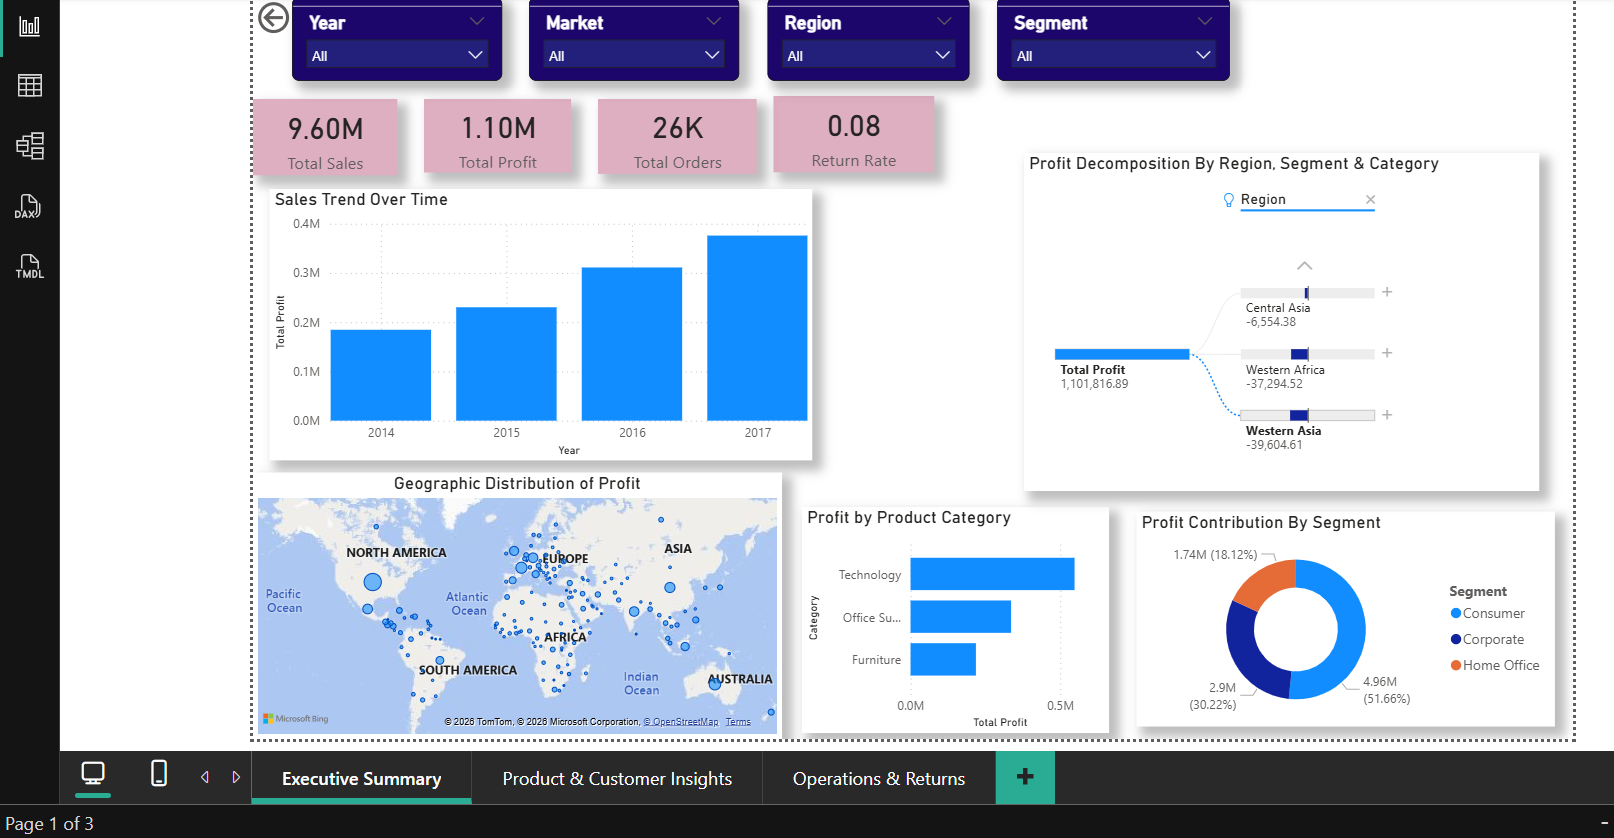

Layout of this report page (visuals, bound fields, positions):
{"tool":"powerbi","page":{"name":"Executive Summary","canvas":[1280,720],"ordinal":0},"visuals":[{"type":"card","fields":{"Values":["_Measures.Total Sales"]},"box":[0,98.6,140,74.3],"z":0},{"type":"card","fields":{"Values":["_Measures.Return Rate"]},"box":[505.7,95.7,155.7,74.3],"z":1000},{"type":"card","fields":{"Values":["_Measures.Total Profit"]},"box":[165.7,98.6,142.9,71.4],"z":2000},{"type":"card","fields":{"Values":["_Measures.Total Profit"]},"box":[334.3,98.6,154.3,72.9],"z":3000},{"type":"lineClusteredColumnComboChart","title":"Sales Trend Over Time","fields":{"Category":["Dim_Date.Order Date.Variation.Date Hierarchy.Year","Dim_Date.Order Date.Variation.Date Hierarchy.Quarter","Dim_Date.Order Date.Variation.Date Hierarchy.Month","Dim_Date.Order Date.Variation.Date Hierarchy.Day"],"Y":["_Measures.Total Profit"]},"box":[16.7,186.2,526.9,263.5],"z":4000},{"type":"actionButton","box":[0,0,100,40],"z":5000},{"type":"map","title":"Geographic Distribution of Profit","fields":{"Category":["Dim_Geography.Country"],"Size":["_Measures.Total Sales"]},"box":[0,461.7,513.3,258.3],"z":6000},{"type":"clusteredBarChart","title":"Profit by Product Category","fields":{"Category":["Dim_Product.Category"],"Y":["_Measures.Total Profit"]},"box":[533,495.1,298.3,219.6],"z":7000},{"type":"donutChart","title":"Profit Contribution By Segment","fields":{"Category":["Dim_Customer.Segment"],"Y":["_Measures.Total Sales"]},"box":[857,499.7,405.8,209],"z":8000},{"type":"decompositionTreeVisual","title":"Profit Decomposition By Region, Segment & Category","fields":{"ExplainBy":["Dim_Geography.Region","Dim_Customer.Segment","Dim_Product.Category"],"Analyze":["_Measures.Total Profit"]},"box":[748,152,500,328],"z":9000},{"type":"slicer","fields":{"Values":["Dim_Date.Order Date.Variation.Date Hierarchy.Year"]},"box":[38,0,204,81],"z":10000},{"type":"slicer","fields":{"Values":["Dim_Geography.Market"]},"box":[267.5,0,203.8,81.2],"z":11000},{"type":"slicer","fields":{"Values":["Dim_Geography.Region"]},"box":[499,0,196,81],"z":12000},{"type":"slicer","fields":{"Values":["Dim_Customer.Segment"]},"box":[722.5,0,226.2,81.2],"z":13000}]}

Visuals, with their boxes on the page's 1280x720 design canvas (x1, y1, x2, y2). These are canvas units, not pixel positions in the 1614x838 screenshot, which may show the page scaled, cropped or inside an application window:
card - _Measures.Total Sales: [left=0, top=99, right=140, bottom=173]
card - _Measures.Return Rate: [left=506, top=96, right=661, bottom=170]
card - _Measures.Total Profit: [left=166, top=99, right=309, bottom=170]
card - _Measures.Total Profit: [left=334, top=99, right=489, bottom=172]
"Sales Trend Over Time" lineClusteredColumnComboChart: [left=17, top=186, right=544, bottom=450]
actionButton: [left=0, top=0, right=100, bottom=40]
"Geographic Distribution of Profit" map: [left=0, top=462, right=513, bottom=720]
"Profit by Product Category" clusteredBarChart: [left=533, top=495, right=831, bottom=715]
"Profit Contribution By Segment" donutChart: [left=857, top=500, right=1263, bottom=709]
"Profit Decomposition By Region, Segment & Category" decompositionTreeVisual: [left=748, top=152, right=1248, bottom=480]
slicer - Dim_Date.Order Date.Variation.Date Hierarchy.Year: [left=38, top=0, right=242, bottom=81]
slicer - Dim_Geography.Market: [left=268, top=0, right=471, bottom=81]
slicer - Dim_Geography.Region: [left=499, top=0, right=695, bottom=81]
slicer - Dim_Customer.Segment: [left=722, top=0, right=949, bottom=81]
